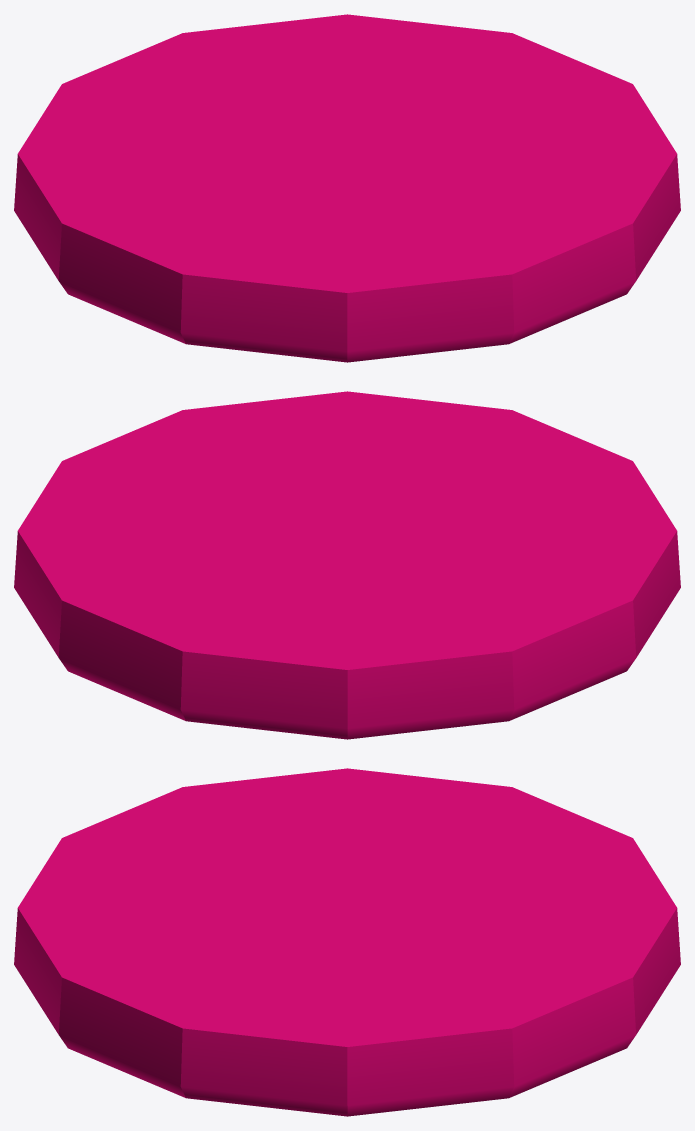
File: Light_Jar_Base.fbx
3 views of the same model, one above another, from view 1: azimuth 30°, elevation 25°; view 2: azimuth 150°, elevation 25°; view 3: azimuth 270°, elevation 25° (orthographic).
Visible parts, largest first — view 1: Light_Jar_Base; view 2: Light_Jar_Base; view 3: Light_Jar_Base.
Part boxes in pixels (<box>): Light_Jar_Base: <box>14,14,680,362</box>; Light_Jar_Base: <box>14,391,680,739</box>; Light_Jar_Base: <box>14,768,680,1116</box>.
Bounding box in the file's own units: 46.48 × 5.57 × 46.48.
